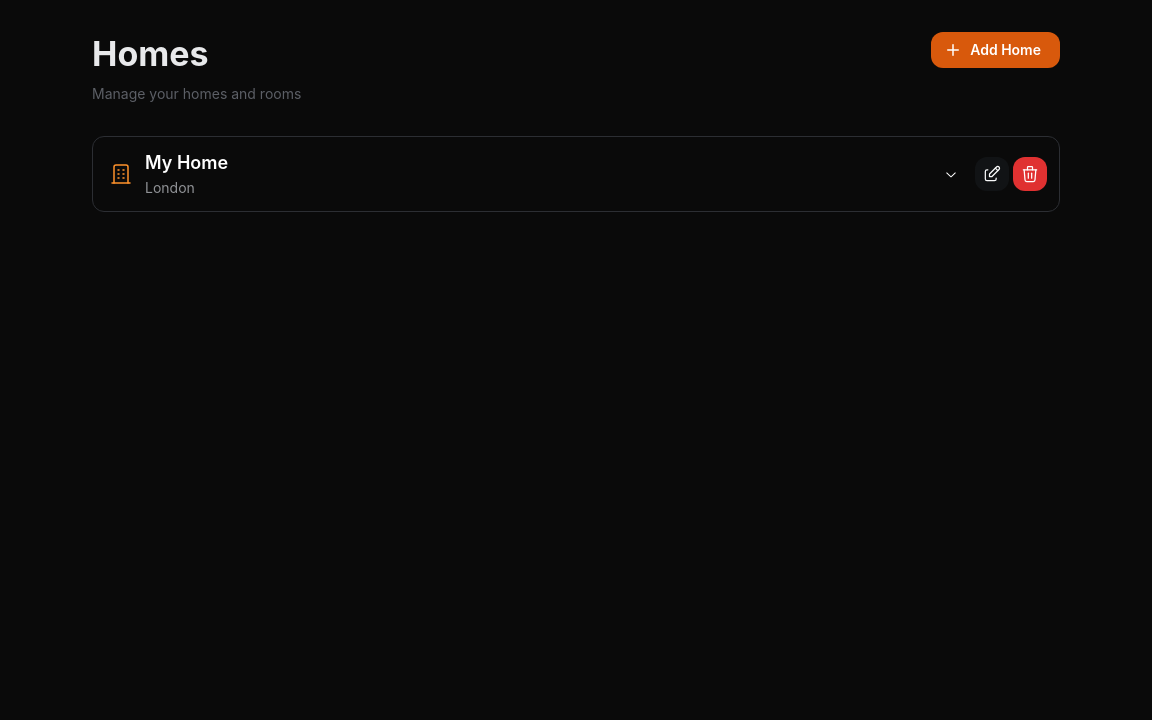
it: Homes › opens the Edit Room modal with pre-filled values (handleOpenRoomModal edit)
Click the text "My Home" at [187, 164], box [145,150,228,178]
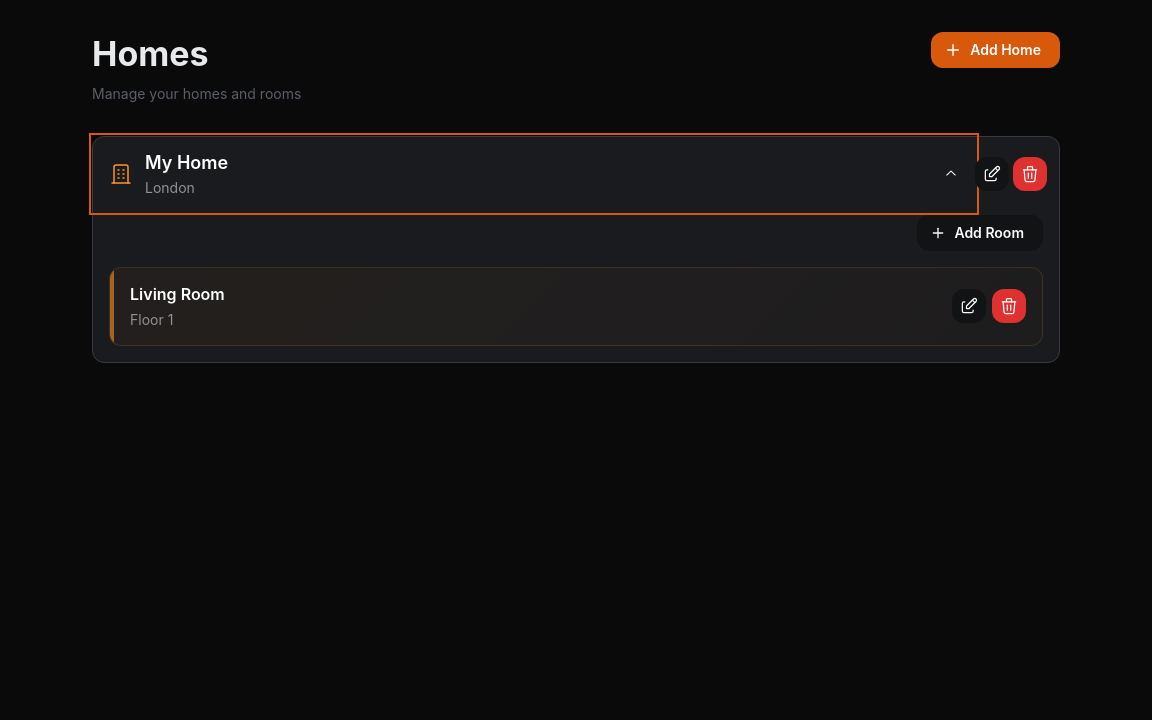
Click the button named "Edit room" at [969, 306], box [952,289,986,323]
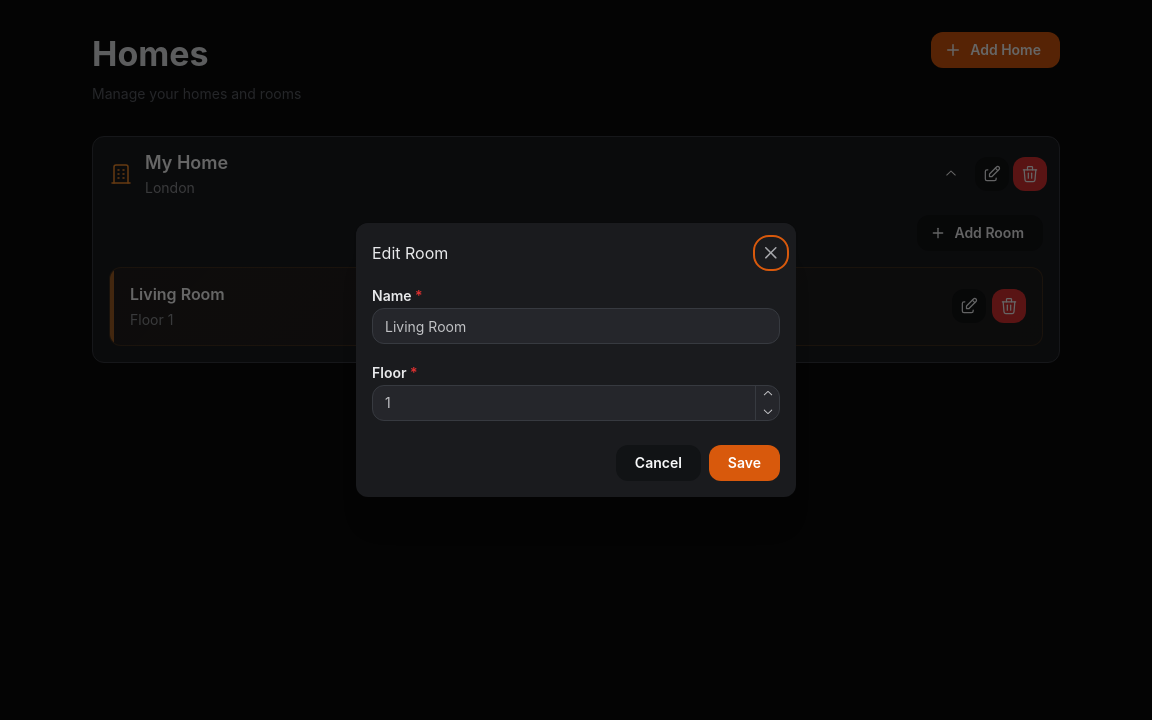
Check: the heading "Edit Room" is shown, box [372,245,448,261]
Check: the field showing "Living Room" is shown, box [372,308,780,344]
